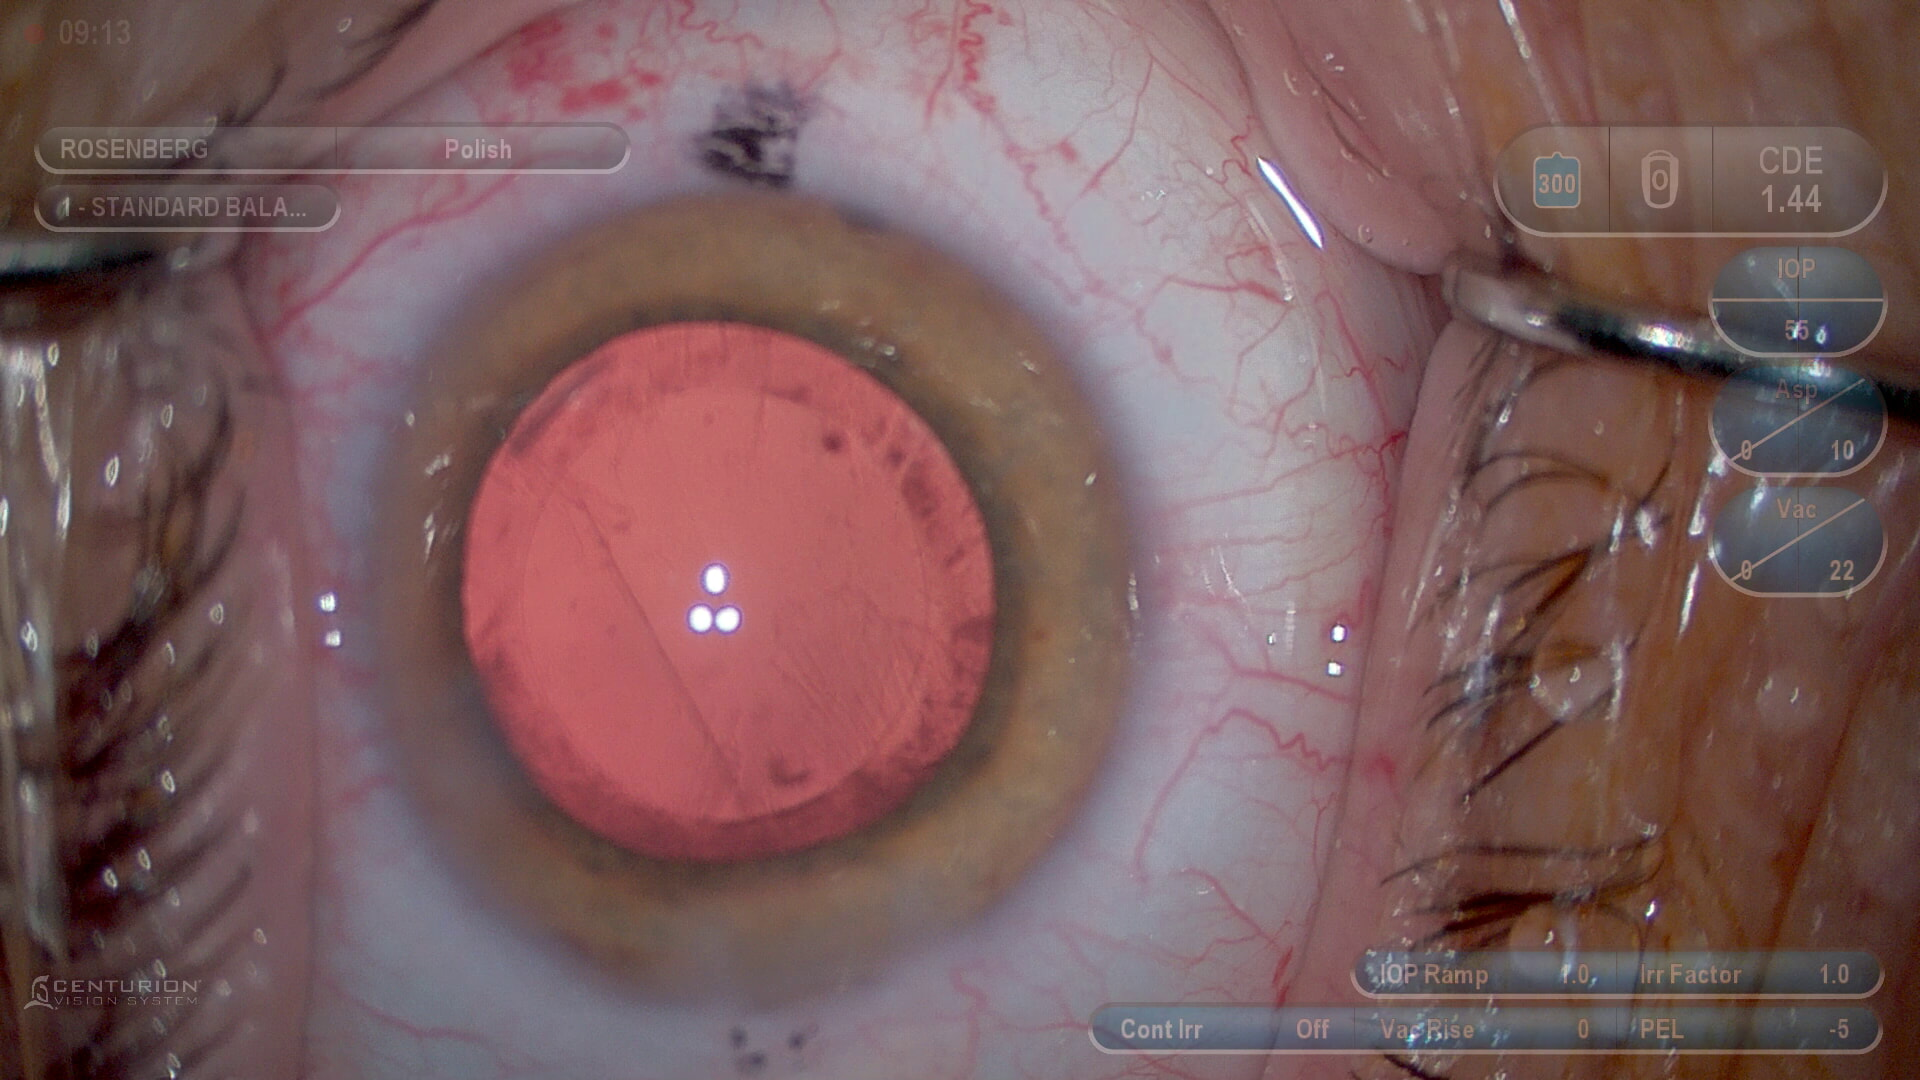iris: (381, 197, 1125, 992)
pupil: (462, 319, 1006, 875)
